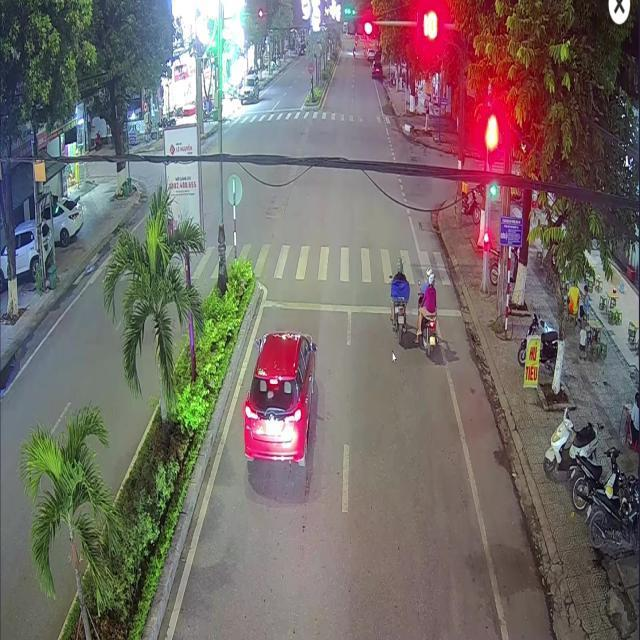car: (242, 330, 316, 464)
motobike: (415, 280, 435, 355), (392, 296, 406, 341)
red_light: (345, 17, 372, 35), (486, 133, 495, 167), (483, 232, 487, 251)
stop_line: (263, 299, 463, 316)
